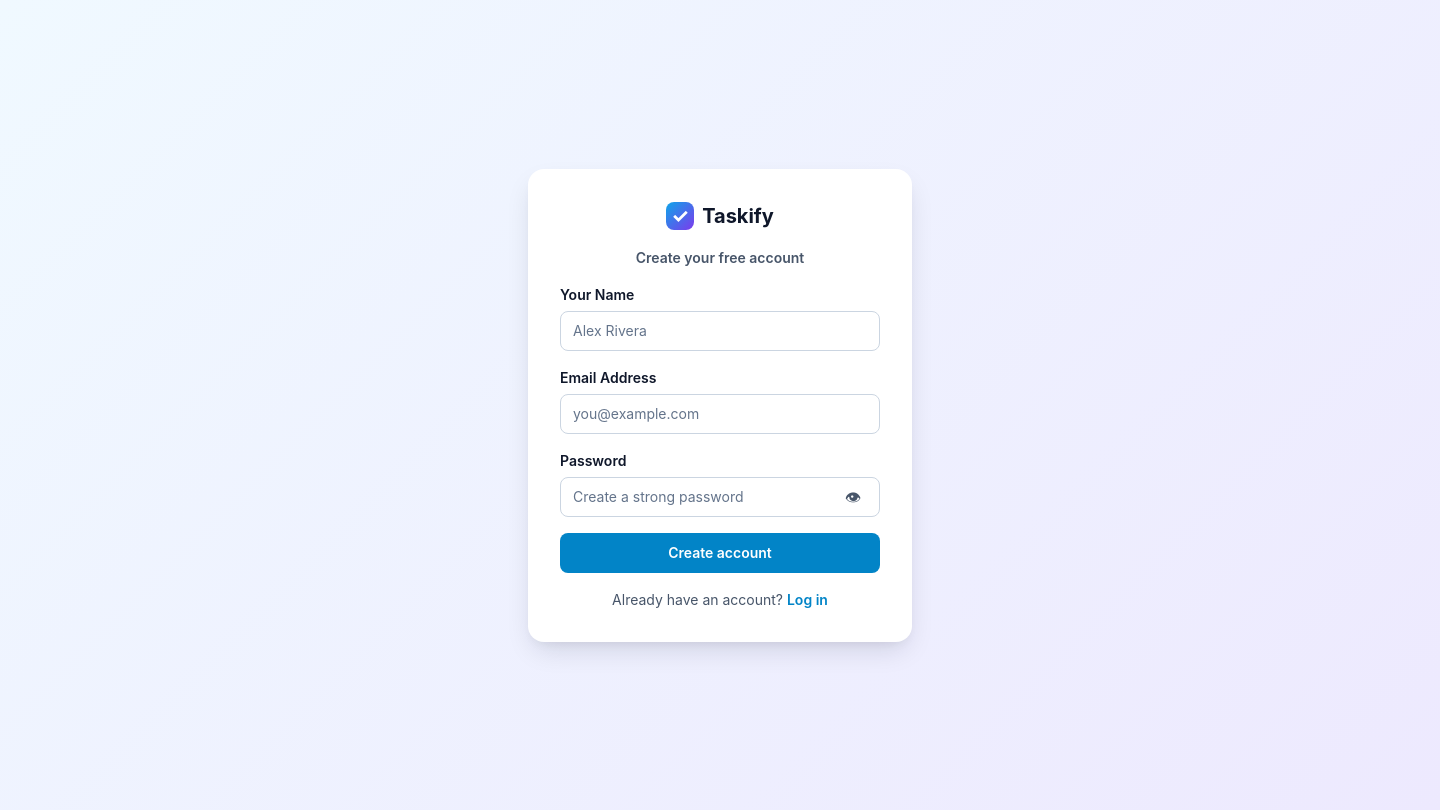
SignupPage › creates an account (no org) and lands on the welcome screen
Type "Jamie Fox" into the field labelled "Your Name". click: (720, 330)
box: [573, 313, 867, 348]
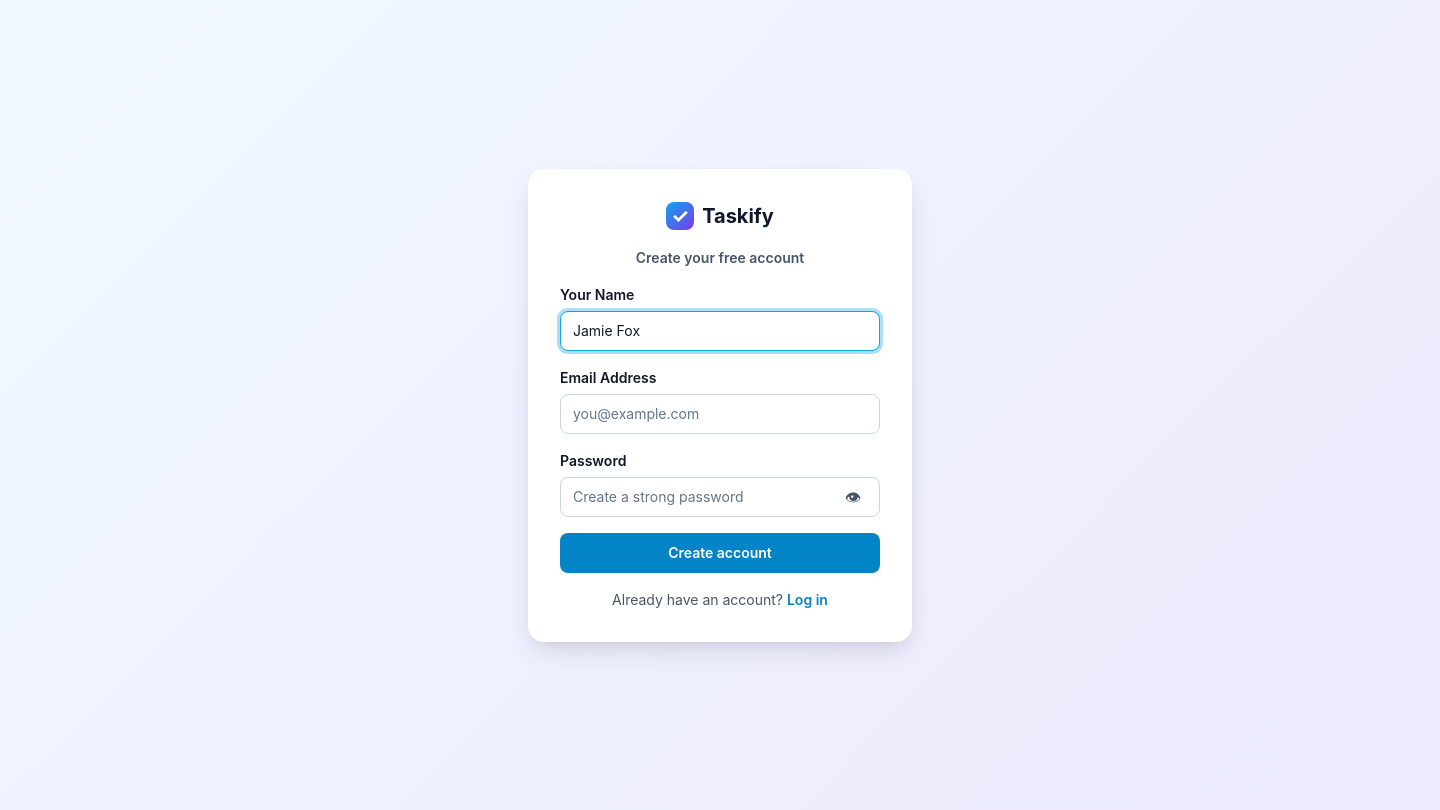
Type "jamie@example.com" into the field labelled "Email Address". click: (720, 414)
box: [573, 396, 867, 431]
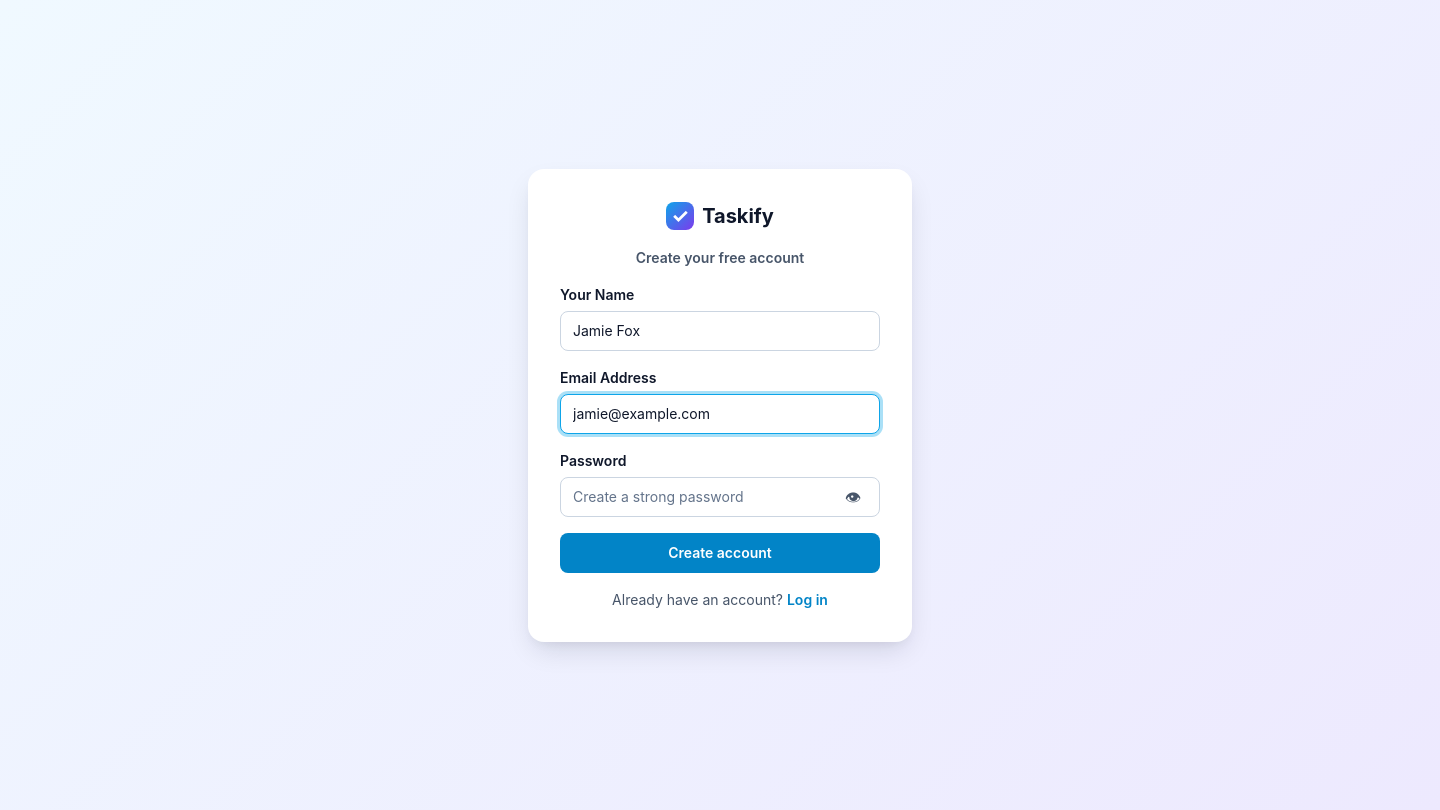
Type "supersecret" into the password field labelled "Password". click: (702, 496)
box: [573, 479, 831, 514]
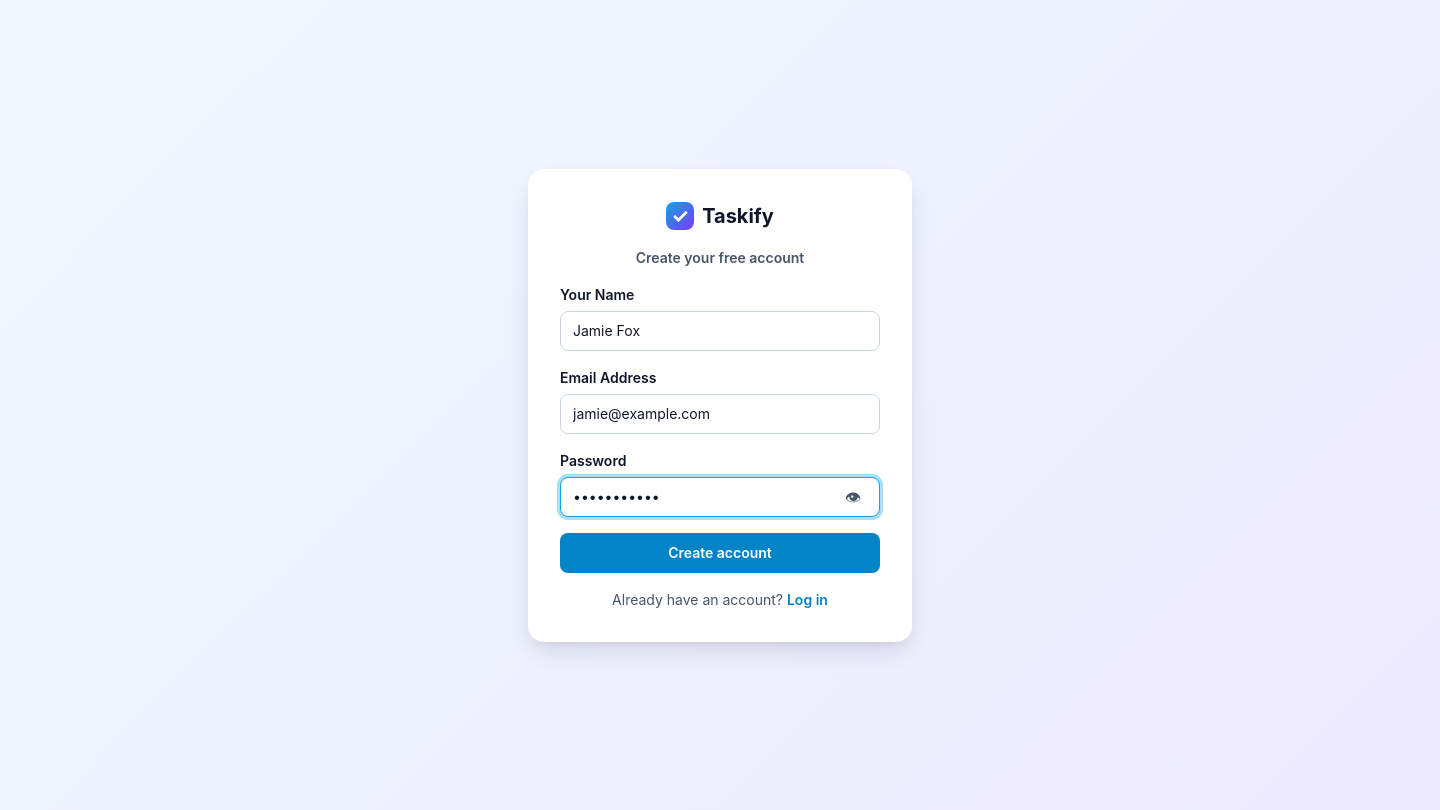
Click the button "Create account". click: (720, 552)
box: [560, 532, 880, 572]
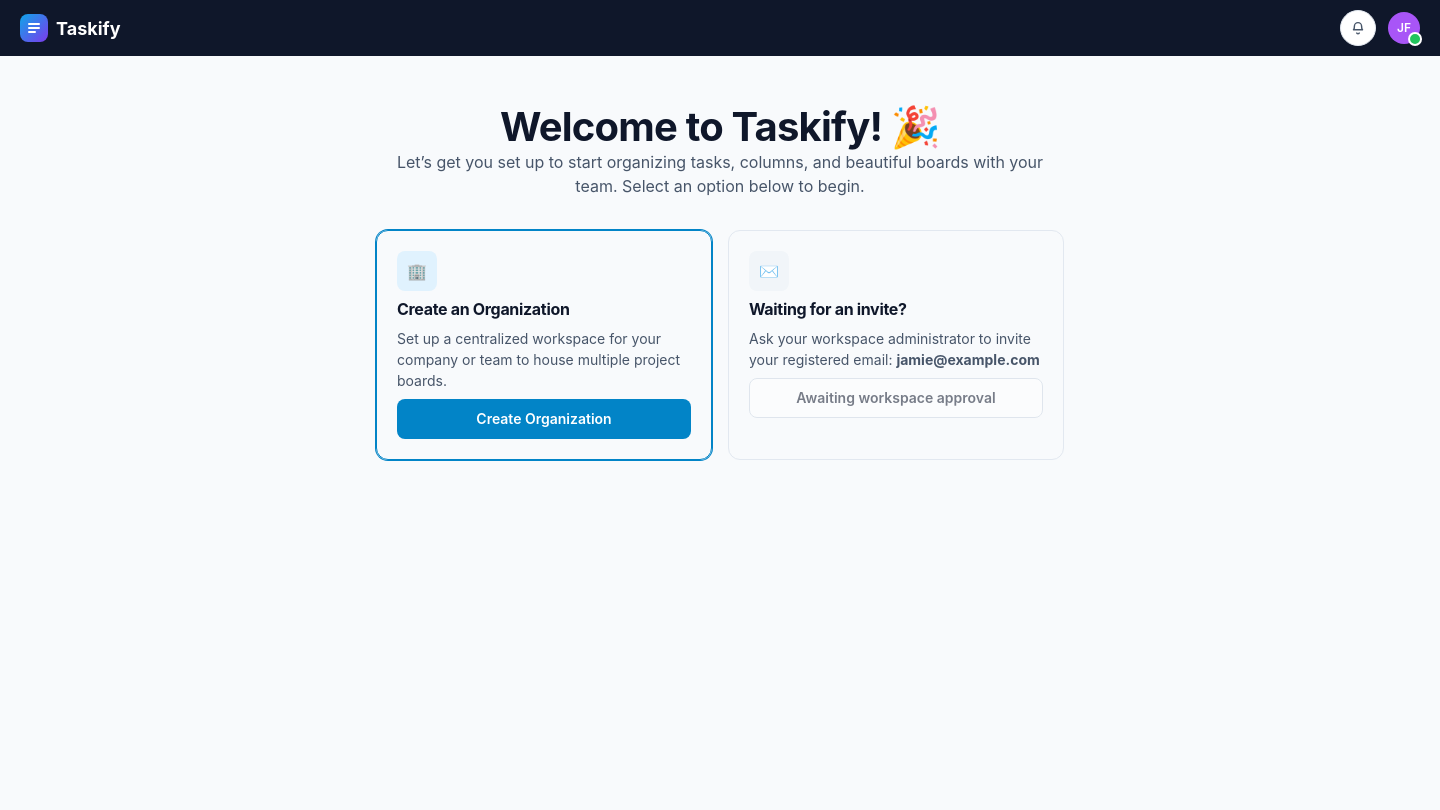
Expected: the heading "Welcome to Taskify! 🎉" is shown, [500, 102, 940, 151]
